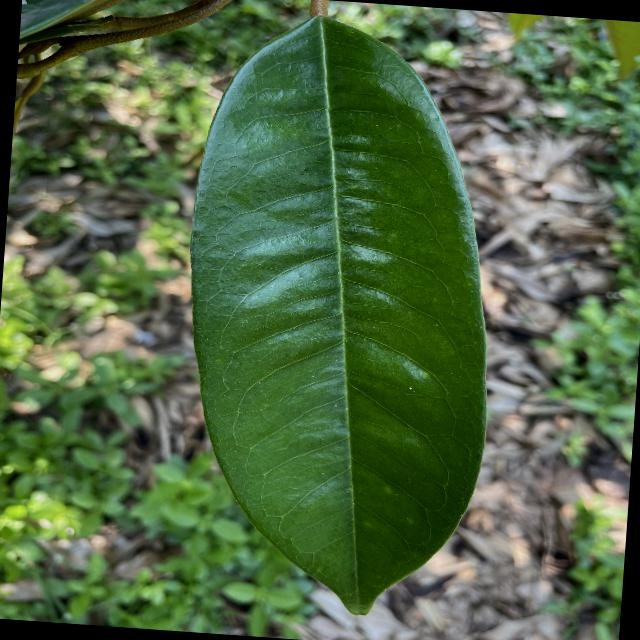No Disease: (162, 0, 529, 628)
